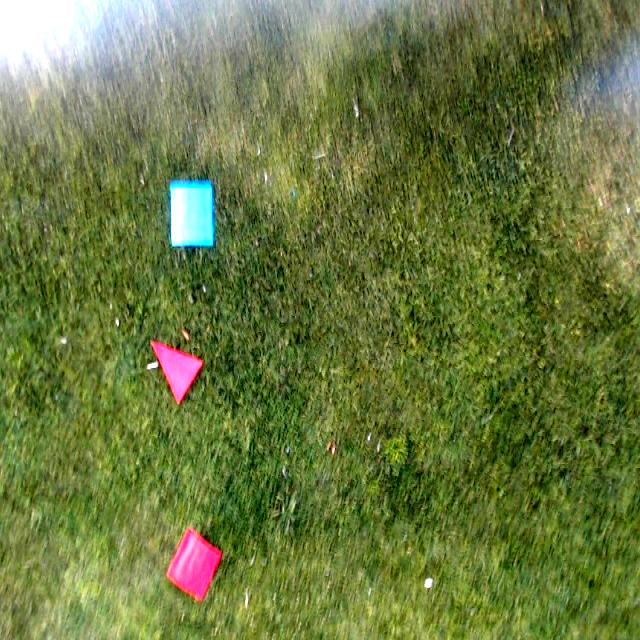blue_square: (169, 184, 214, 244)
red_square: (170, 529, 218, 602)
red_triangle: (149, 340, 202, 403)
